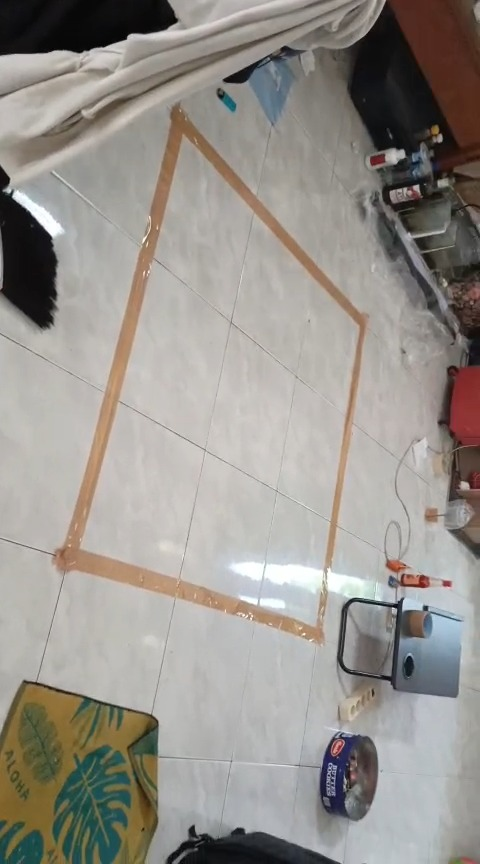floor marking: (55, 107, 366, 643)
